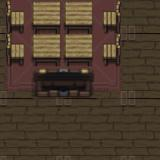Hide: (30, 65, 94, 98)
Obstacle: (94, 0, 128, 33), (30, 34, 64, 66), (31, 0, 63, 33), (95, 33, 127, 66), (63, 33, 95, 66), (64, 0, 95, 33), (0, 0, 31, 33), (0, 33, 30, 66)
